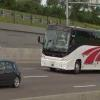Bus: (33, 19, 100, 75)
